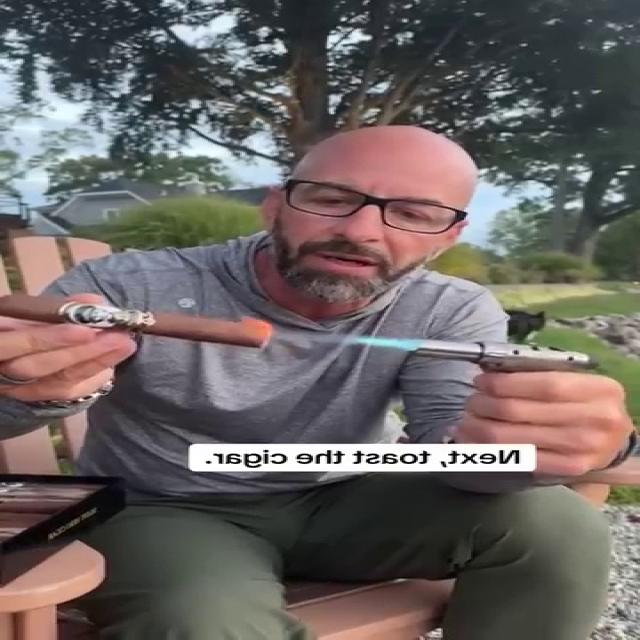Cigarette: (2, 293, 267, 350)
Hand: (0, 290, 153, 414)
Mouth: (308, 248, 382, 274)
